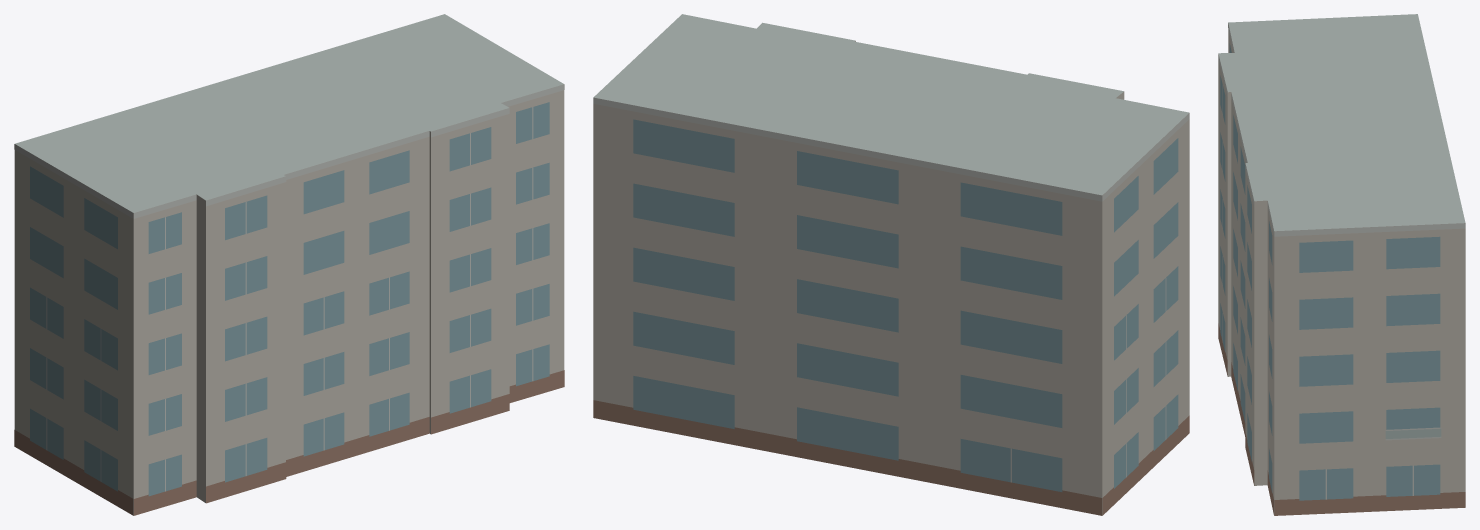
The model's file is survey-upis-32668254.glb.
3 views of the same model, side by side, from view 1: azimuth 30°, elevation 25°; view 2: azimuth 150°, elevation 25°; view 3: azimuth 270°, elevation 25° (orthographic). The views are drawn at different scales.
Parts seen in each view (by area): view 1: survey-upis-32668254.tmp; view 2: survey-upis-32668254.tmp; view 3: survey-upis-32668254.tmp.
Part boxes in pixels (left/top/right/bottom): survey-upis-32668254.tmp: left=14, top=14, right=564, bottom=515; survey-upis-32668254.tmp: left=593, top=14, right=1189, bottom=515; survey-upis-32668254.tmp: left=1218, top=14, right=1465, bottom=515.
Bounding box in the file's own units: 20.63 × 12.6 × 9.93.
